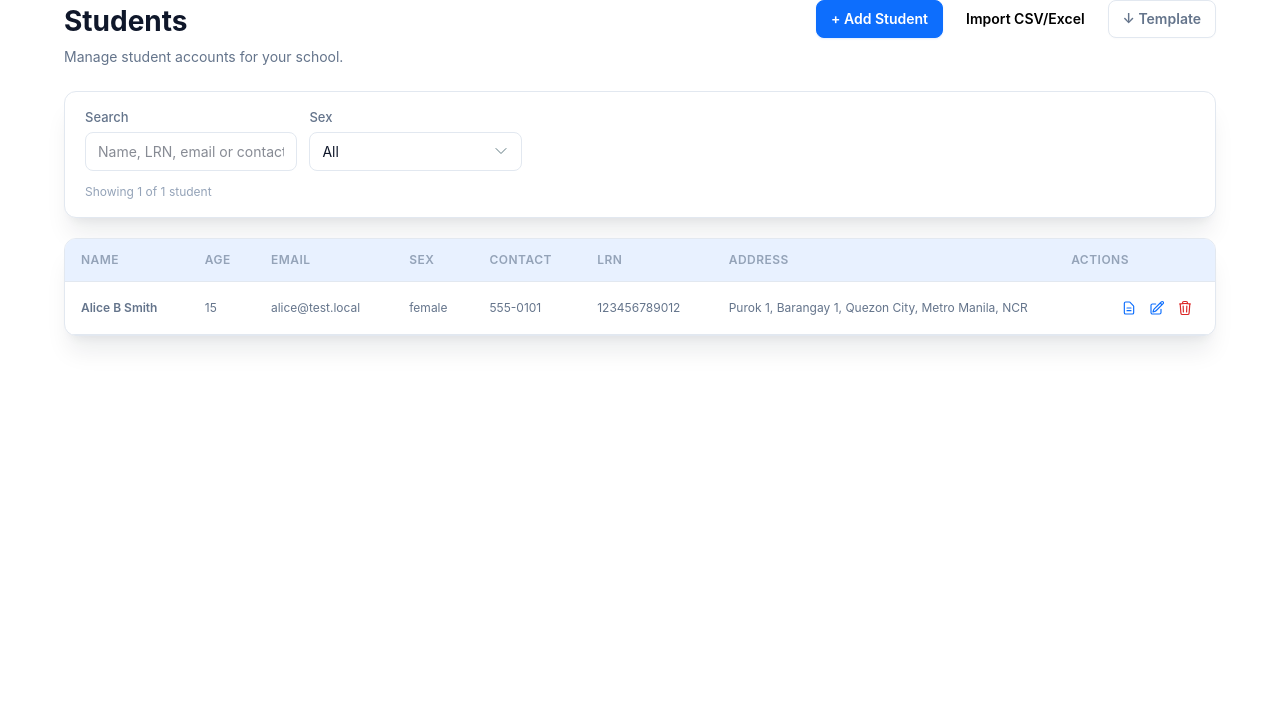
it: ManageStudents page › edits a student and deletes one after confirmation
expect the text "Alice B Smith" is shown: met, box [65, 281, 189, 334]
Click the button named "Edit student". click: [1157, 308]
box: [1143, 294, 1171, 322]
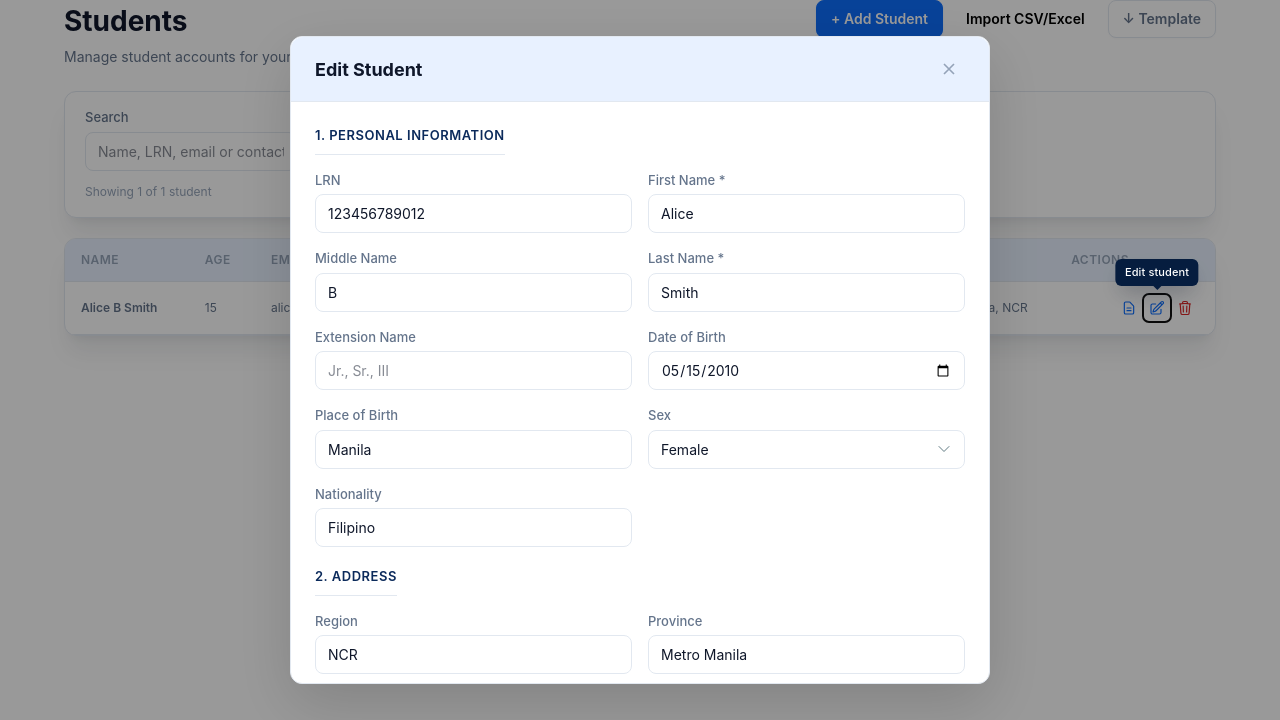
Replace the text in the field below "First Name *" with "Alicia". click: [806, 214]
box: [648, 194, 965, 233]
(page scrolled)
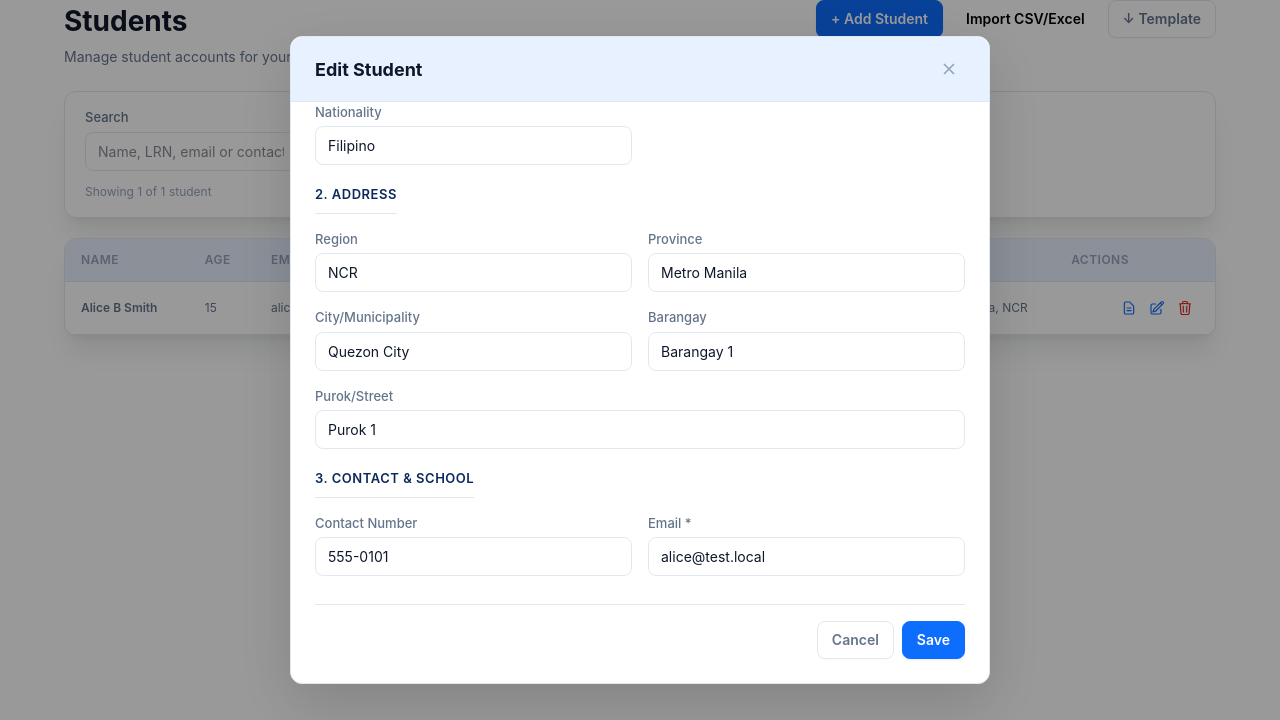
Click the button "Save". click: [933, 640]
box: [902, 621, 965, 659]
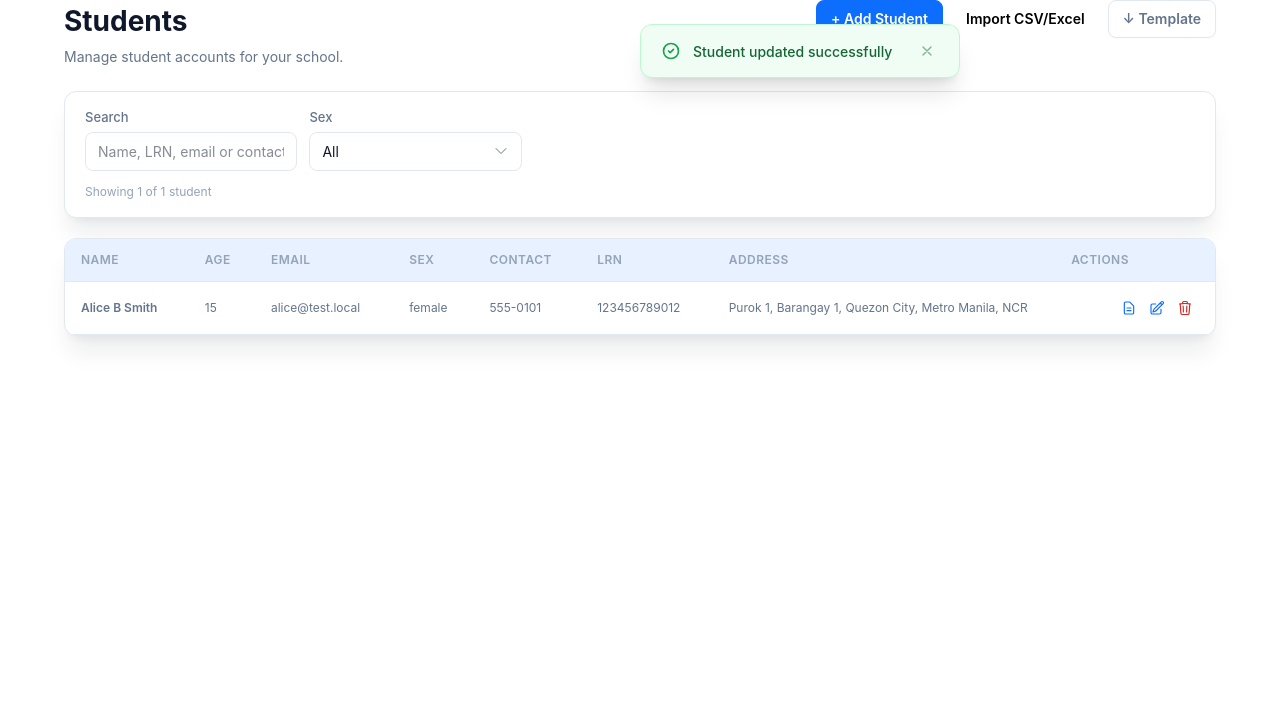
expect the text "Student updated successfully" is shown: met, box [693, 40, 903, 62]
Click the button named "Delete student". click: [1185, 308]
box: [1171, 294, 1199, 322]
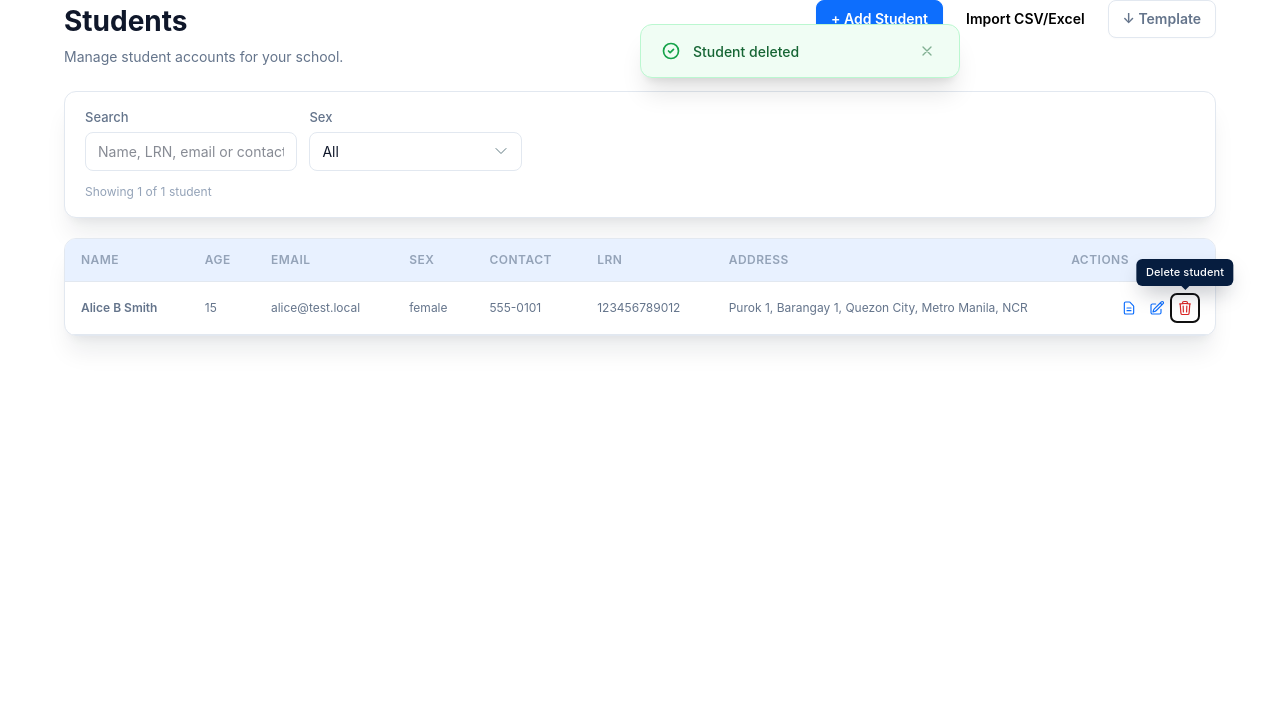
expect the text "Student deleted" is shown: met, box [693, 42, 799, 60]
